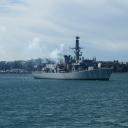Fragata: (33, 36, 115, 83)
